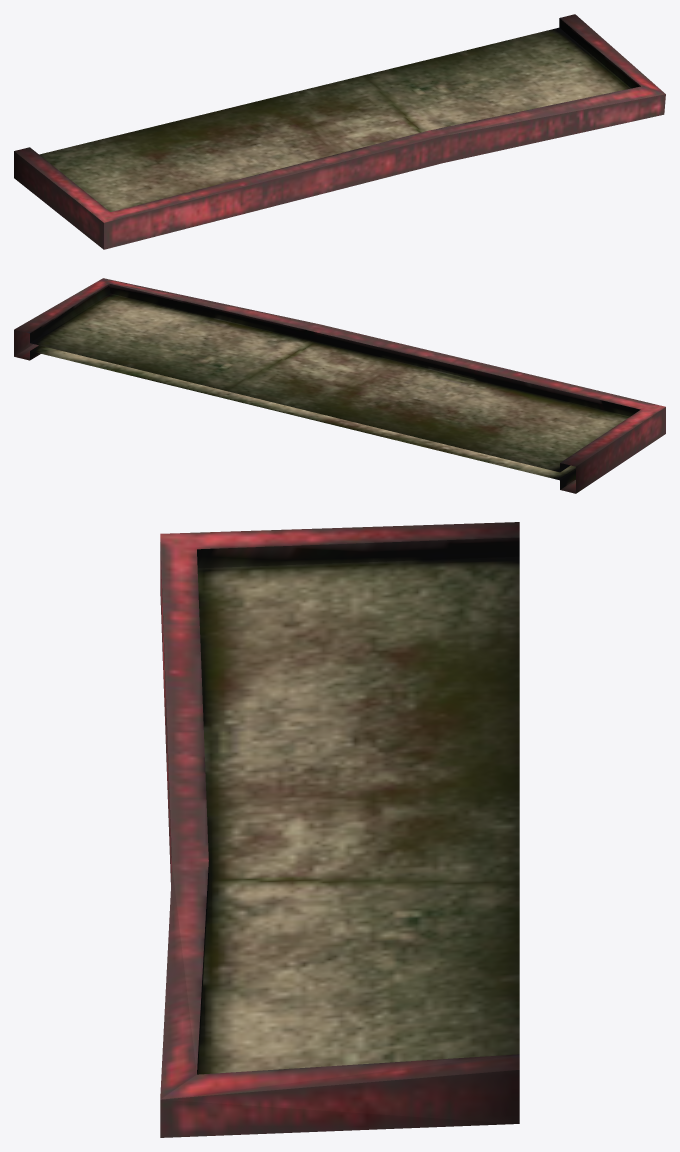
The model's file is WindowTop.FBX.
3 renders of one model, top to bottom at view 1: azimuth 30°, elevation 25°; view 2: azimuth 150°, elevation 25°; view 3: azimuth 270°, elevation 25°, orthographic. The views are drawn at different scales.
Visible parts, largest first — view 1: WindowTop; view 2: WindowTop; view 3: WindowTop.
Boxes of the visible parts, x1=… form: WindowTop: x1=14, y1=14, x2=665, y2=249; WindowTop: x1=14, y1=278, x2=665, y2=493; WindowTop: x1=160, y1=522, x2=519, y2=1137.
Bounding box in the file's own units: 276 × 17.12 × 76.37.
